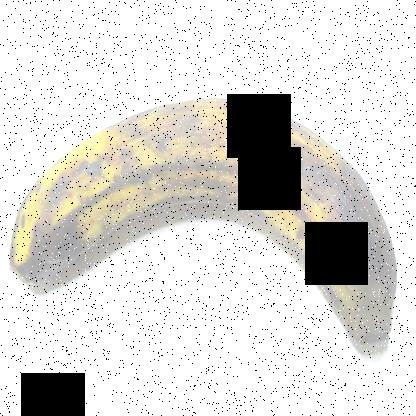overripe: (2, 84, 398, 358)
